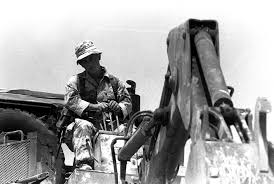excavator: (55, 19, 267, 184)
